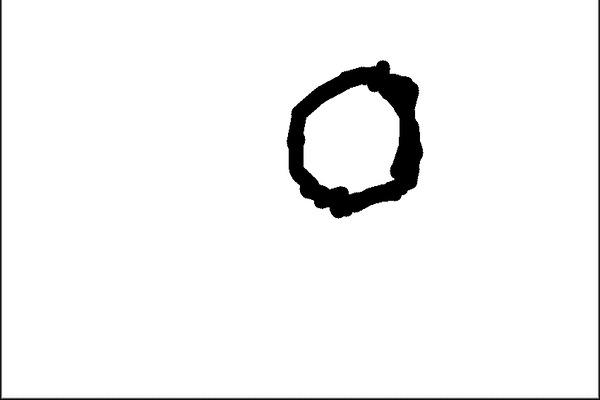O: (270, 57, 438, 218)
